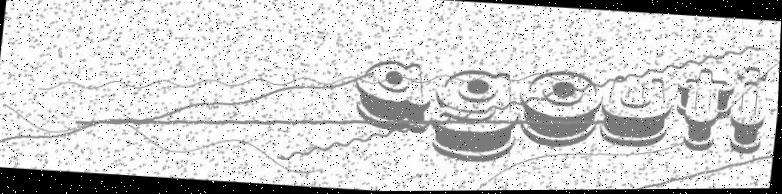a: (351, 57, 438, 138)
g: (430, 66, 524, 166)
i: (726, 66, 770, 157)
o: (515, 66, 607, 152)
t: (671, 68, 736, 155)
u: (599, 74, 677, 150)
